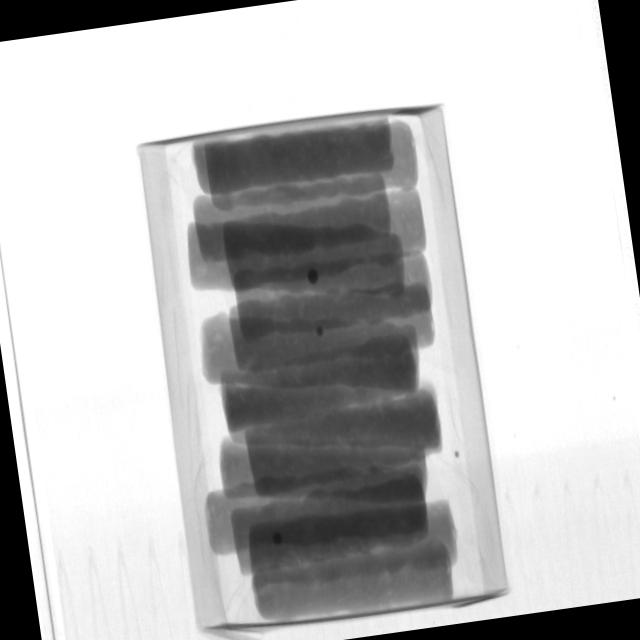ym: (308, 269, 322, 286), (274, 531, 285, 546), (317, 326, 326, 336), (454, 450, 461, 457)
